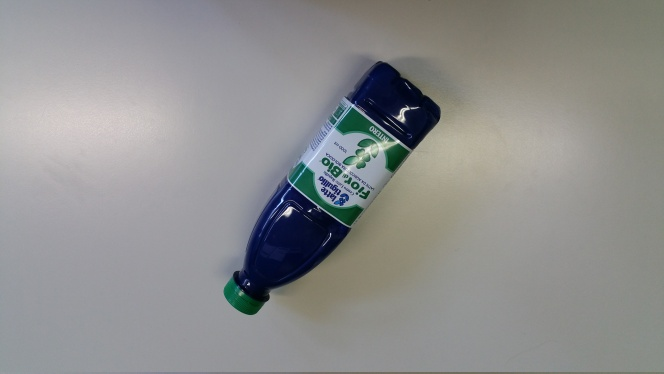bottle: (204, 58, 444, 316)
